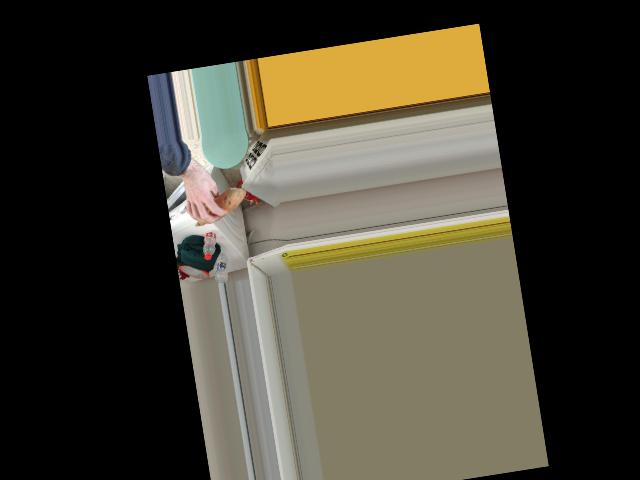sweet_potato: (187, 186, 248, 227)
